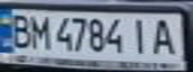4: (103, 16, 130, 54), (51, 14, 72, 52)
7: (69, 15, 87, 52)
8: (87, 16, 109, 53)
A: (145, 16, 181, 56)
B: (3, 11, 33, 50)
I: (127, 16, 154, 55)
M: (27, 12, 54, 51)
